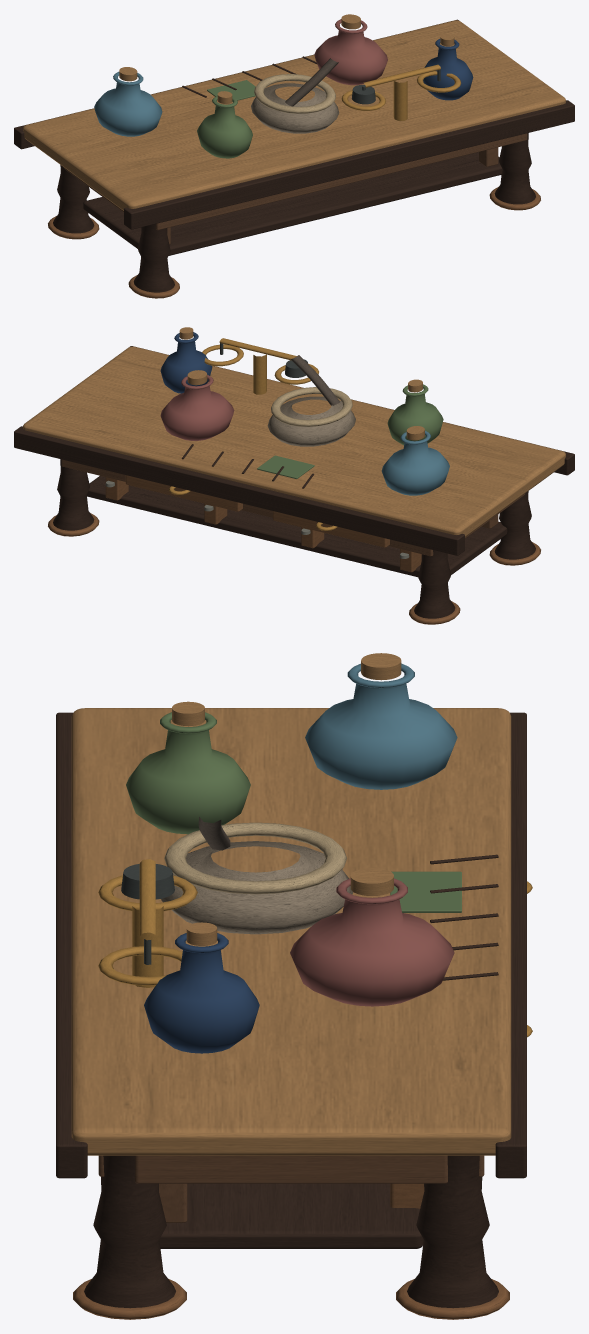
File: alchemy_table.glb
3 renders of one model, top to bottom at view 1: azimuth 30°, elevation 25°; view 2: azimuth 150°, elevation 25°; view 3: azimuth 270°, elevation 25°, orthographic. The views are drawn at different scales.
Visible parts, largest first — view 1: alchemy_table; view 2: alchemy_table; view 3: alchemy_table.
Part boxes in pixels (<box>): alchemy_table: <box>14,14,574,298</box>; alchemy_table: <box>14,327,574,624</box>; alchemy_table: <box>56,653,532,1319</box>.
Size of the model in its own units: 2.8 by 1 by 1.3.
1 material, 1 textured.
